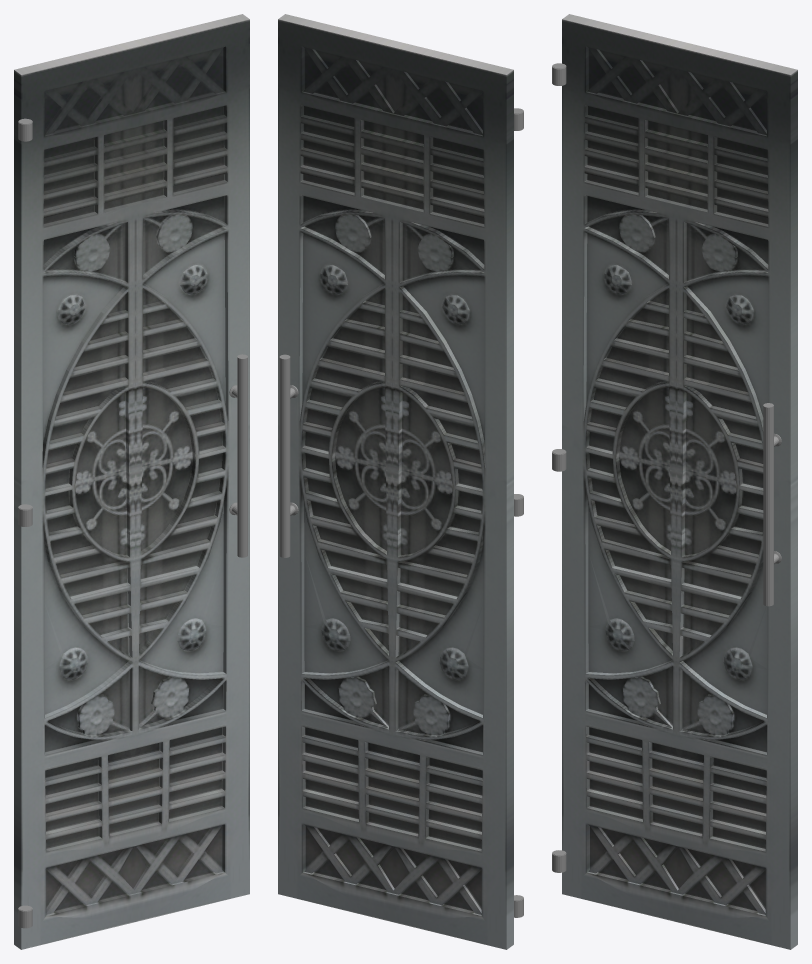
File: EntranceDoorLeft1 1.fbx
3 renders of one model, left to right at view 1: azimuth 30°, elevation 25°; view 2: azimuth 150°, elevation 25°; view 3: azimuth 330°, elevation 25°, orthographic.
Parts seen in each view (by area): view 1: EntranceDoorLeft1; view 2: EntranceDoorLeft1; view 3: EntranceDoorLeft1.
Part boxes in pixels (<box>): EntranceDoorLeft1: <box>14,14,249,949</box>; EntranceDoorLeft1: <box>278,14,523,949</box>; EntranceDoorLeft1: <box>552,14,797,949</box>.
Size of the model in its own units: 94.81 by 338 by 19.53.
Materials: 2 (1 with a texture image).
